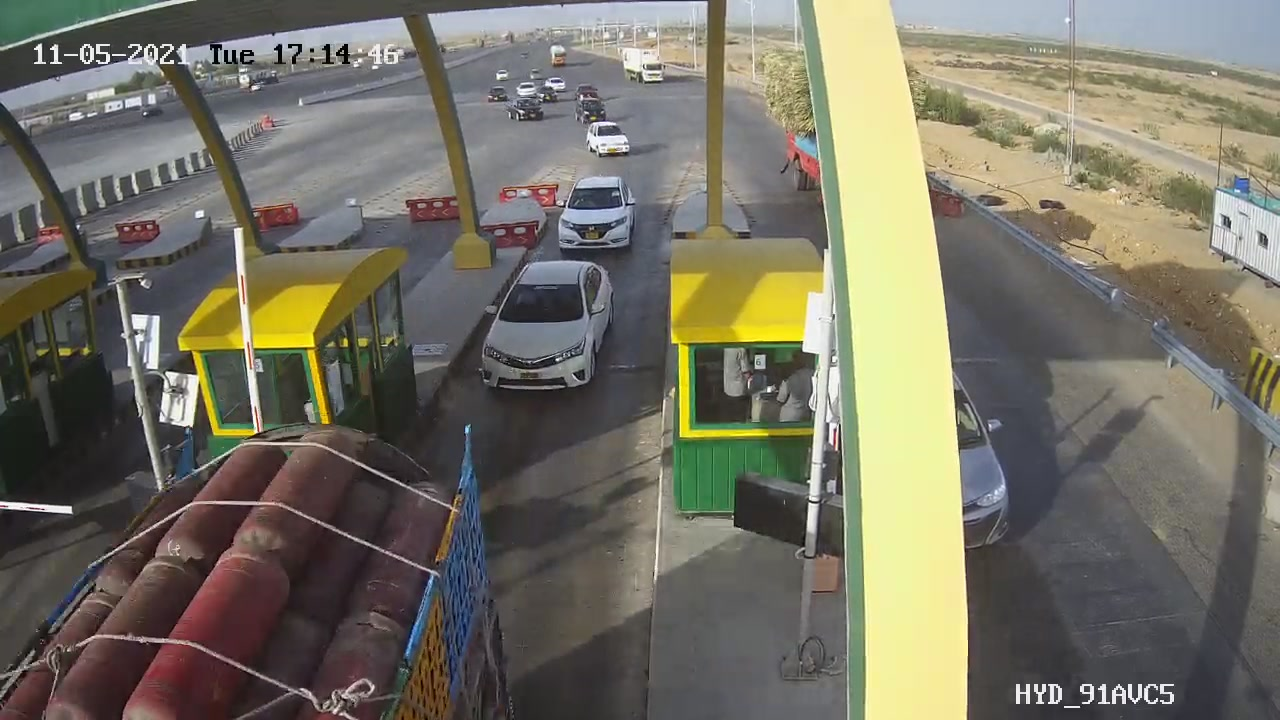F1: (464, 248, 638, 409), (540, 169, 650, 272)
